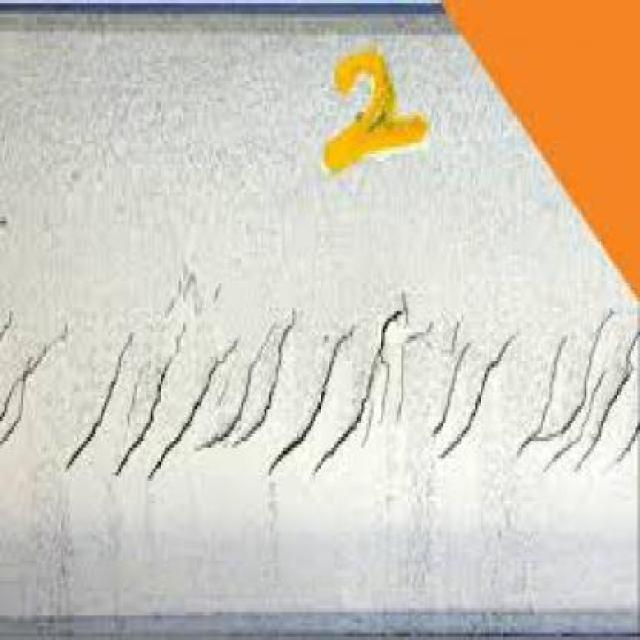defective: (0, 231, 640, 571)
